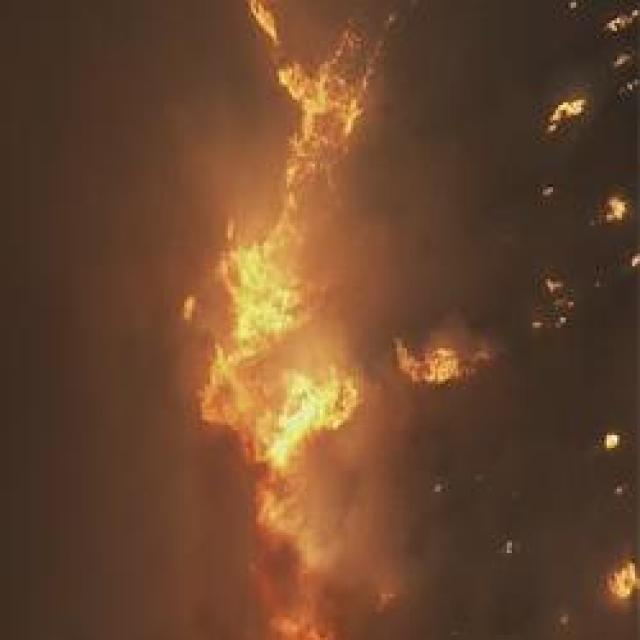Fire: (197, 232, 364, 474), (251, 1, 375, 225), (394, 336, 488, 392)
